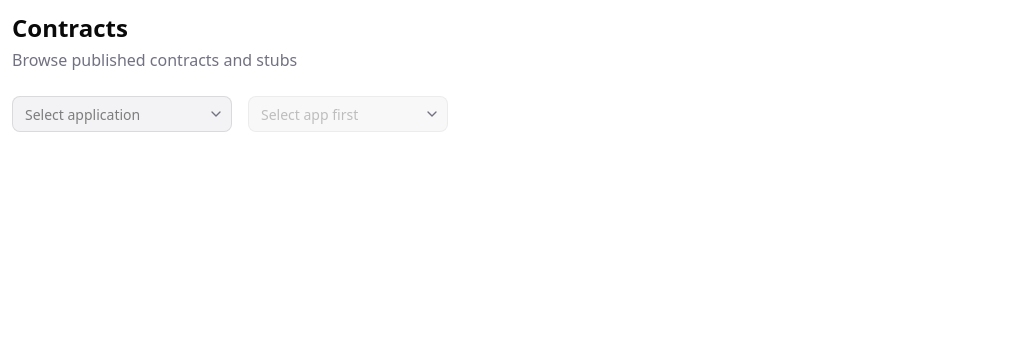
Test case: ContractsPage › should display contracts after selecting app and version
Click the dropdown with placeholder "Select application" at x=122, y=114, box [12, 96, 232, 132]
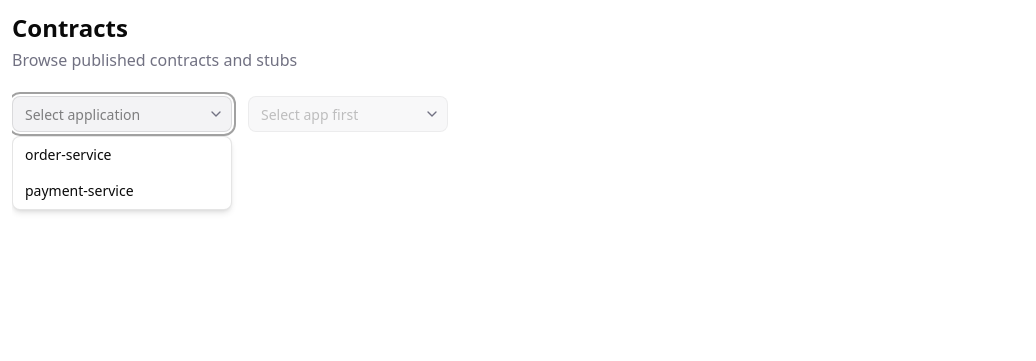
expect the option "order-service" is shown: met
Click the option "order-service" at x=68, y=154, box [25, 145, 112, 164]
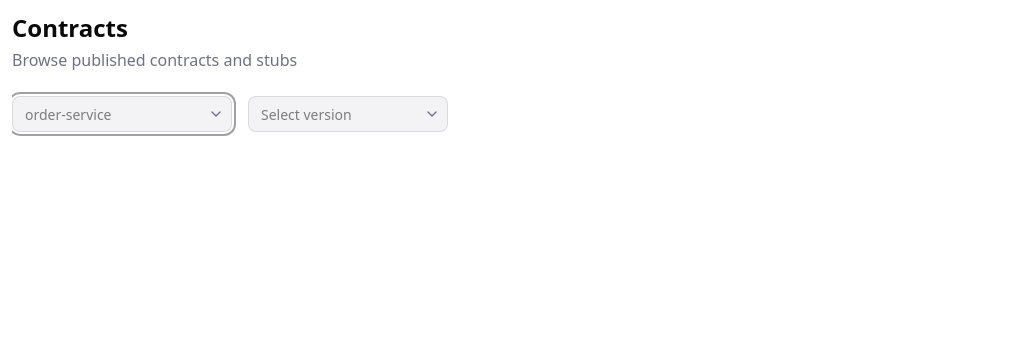
expect the dropdown with placeholder "Select version" is enabled: met
Click the dropdown with placeholder "Select version" at x=348, y=114, box [248, 96, 448, 132]
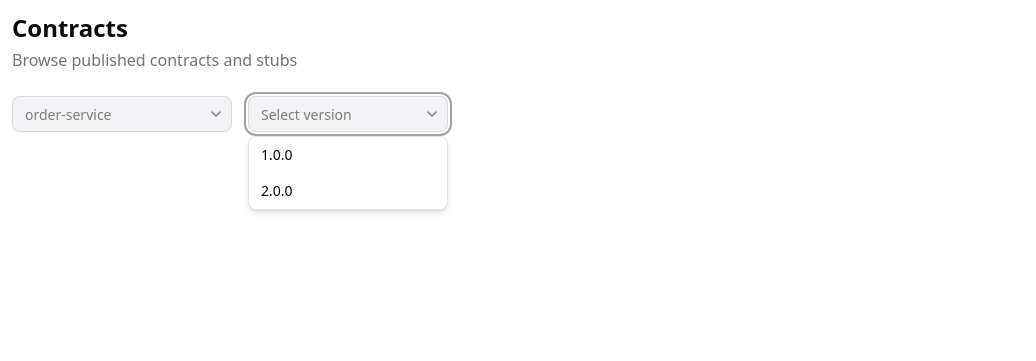
expect the option "1.0.0" is shown: met
Click the option "1.0.0" at x=277, y=154, box [261, 145, 292, 164]
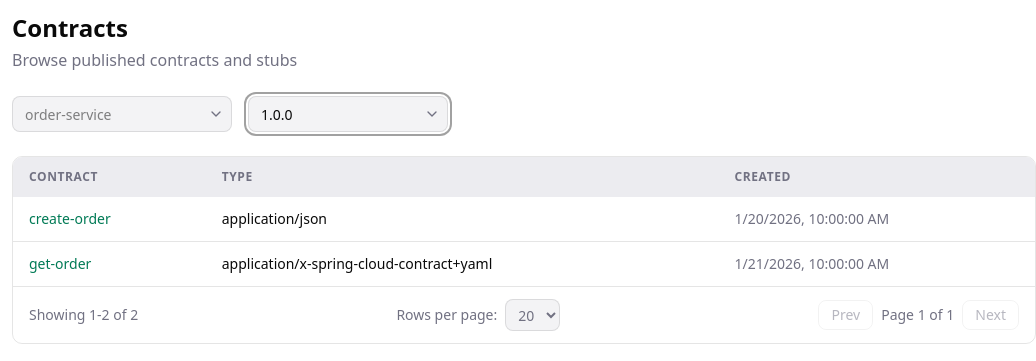
expect the button "create-order" is shown: met, box [29, 209, 111, 229]
expect the button "get-order" is shown: met, box [29, 254, 91, 274]
